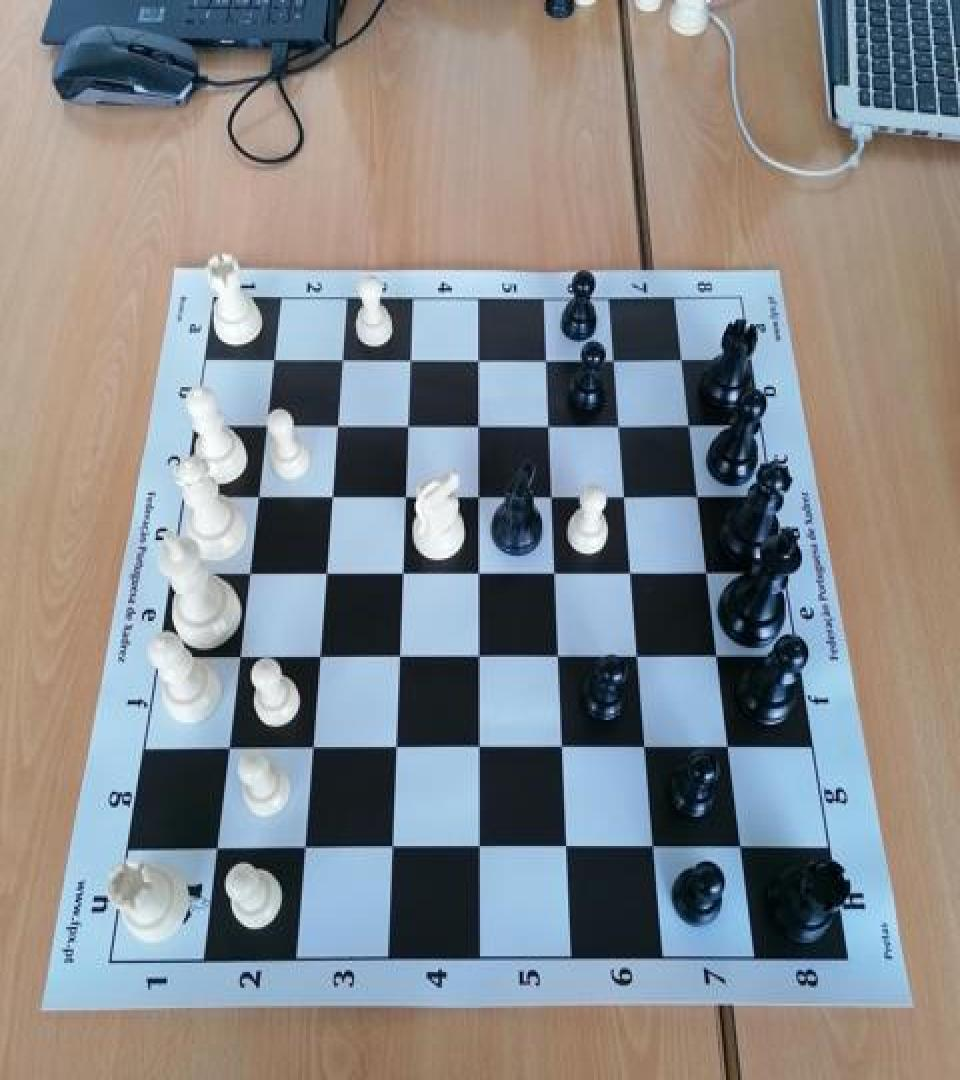xcorner: (667, 340, 697, 374), (598, 341, 628, 375), (530, 341, 560, 375), (462, 341, 492, 375), (394, 341, 424, 375), (325, 342, 355, 376), (257, 342, 287, 376), (675, 406, 705, 440), (604, 406, 634, 440), (533, 407, 563, 441), (462, 407, 492, 441), (391, 407, 421, 441), (320, 408, 350, 442), (249, 408, 279, 442), (684, 478, 714, 512), (610, 478, 640, 512), (537, 478, 567, 512), (463, 479, 493, 513), (389, 479, 419, 513), (315, 479, 345, 513), (242, 479, 272, 513), (694, 554, 724, 588), (617, 556, 647, 590), (540, 556, 570, 590), (463, 556, 493, 590), (387, 557, 417, 591), (310, 557, 340, 591), (233, 557, 263, 591), (704, 639, 734, 673), (624, 639, 654, 673), (544, 640, 574, 674), (464, 640, 494, 674), (384, 640, 414, 674), (304, 641, 334, 675), (224, 641, 254, 675), (716, 730, 746, 764), (632, 731, 662, 765), (548, 731, 578, 765), (465, 732, 495, 766), (381, 732, 411, 766), (297, 732, 327, 766), (214, 734, 244, 768), (728, 830, 758, 864), (641, 831, 671, 865), (553, 831, 583, 865), (465, 832, 495, 866), (378, 832, 408, 866), (290, 834, 320, 868), (202, 834, 232, 868)
